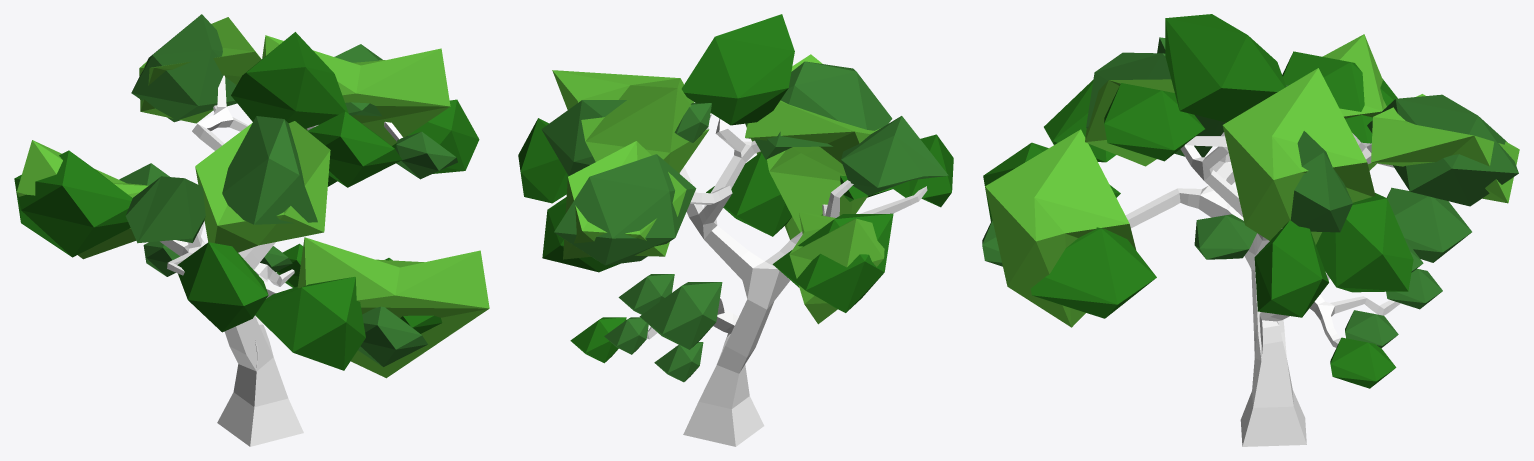
Rendered from my_first_tree.glb.
The picture shows the model from 3 angles, left to right: view 1: azimuth 30°, elevation 25°; view 2: azimuth 150°, elevation 25°; view 3: azimuth 270°, elevation 25°; orthographic projection. The views are drawn at different scales.
Parts seen in each view (by area): view 1: Icosphere.011, Cube; view 2: Icosphere.011, Cube; view 3: Icosphere.011, Cube.
Boxes of the visible parts, x1,y1,x2,y2 form: Icosphere.011: (14,14,489,378); Cube: (160,75,402,446); Icosphere.011: (518,14,953,382); Cube: (646,113,927,446); Icosphere.011: (982,14,1519,388); Cube: (1125,132,1400,446).
Bounding box in the file's own units: 8.76 × 7.94 × 9.42.
